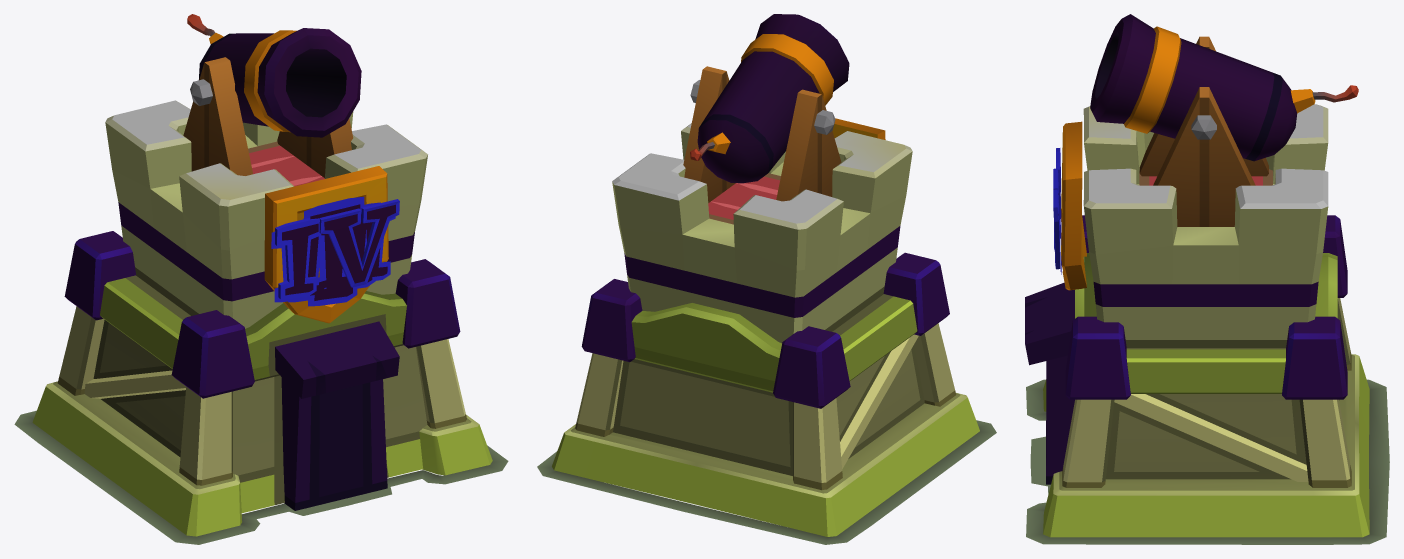
File: Baracs_Rework_.fbx
3 renders of one model, left to right at view 1: azimuth 30°, elevation 25°; view 2: azimuth 150°, elevation 25°; view 3: azimuth 270°, elevation 25°, orthographic. The views are drawn at different scales.
Visible parts, largest first — view 1: Baracs_Rework_T1, Baracs_Rework_T4, Baracs_Rework_T3, Baracs_Rework_T2; view 2: Baracs_Rework_T1; view 3: Baracs_Rework_T1, Baracs_Rework_T4.
Boxes of the visible parts, x1=… form: Baracs_Rework_T1: x1=14, y1=14, x2=508, y2=544; Baracs_Rework_T4: x1=275, y1=199, x2=399, y2=299; Baracs_Rework_T3: x1=271, y1=209, x2=395, y2=302; Baracs_Rework_T2: x1=288, y1=202, x2=380, y2=302; Baracs_Rework_T1: x1=537, y1=14, x2=996, y2=544; Baracs_Rework_T1: x1=1025, y1=14, x2=1389, y2=544; Baracs_Rework_T4: x1=1053, y1=148, x2=1060, y2=269.
Size of the model in its own units: 4.91 by 6.16 by 4.57.
